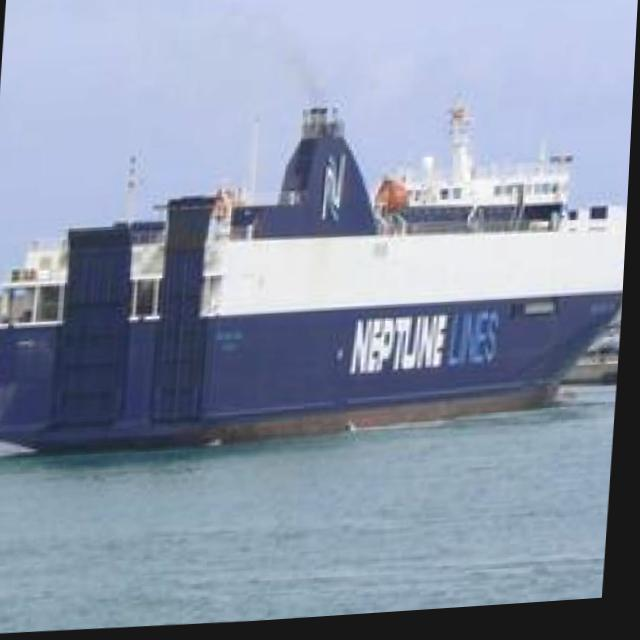ship2: (0, 105, 630, 456)
